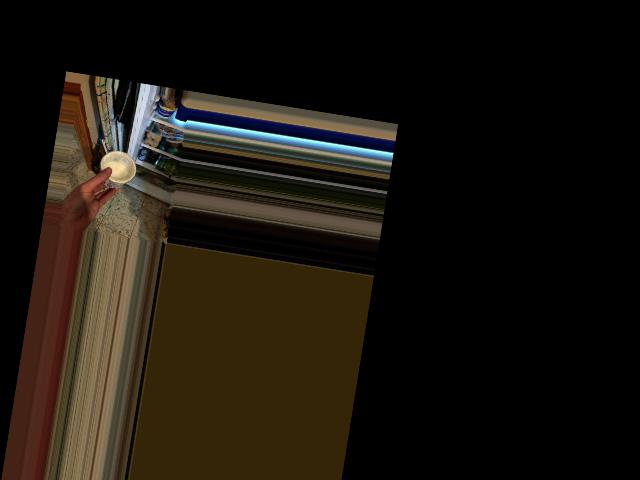cotage: (94, 146, 132, 190)
